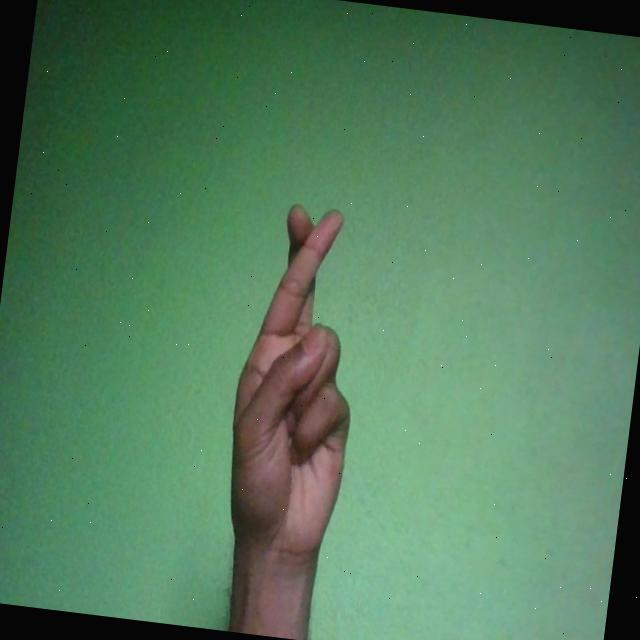Ok: (216, 198, 377, 568)
